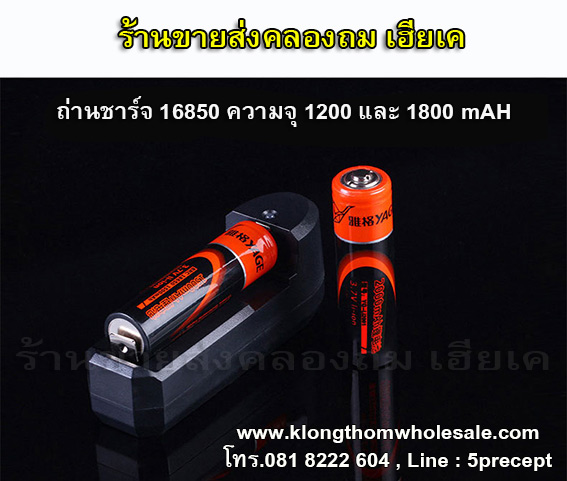Battery: (101, 218, 281, 361), (328, 160, 397, 370)
